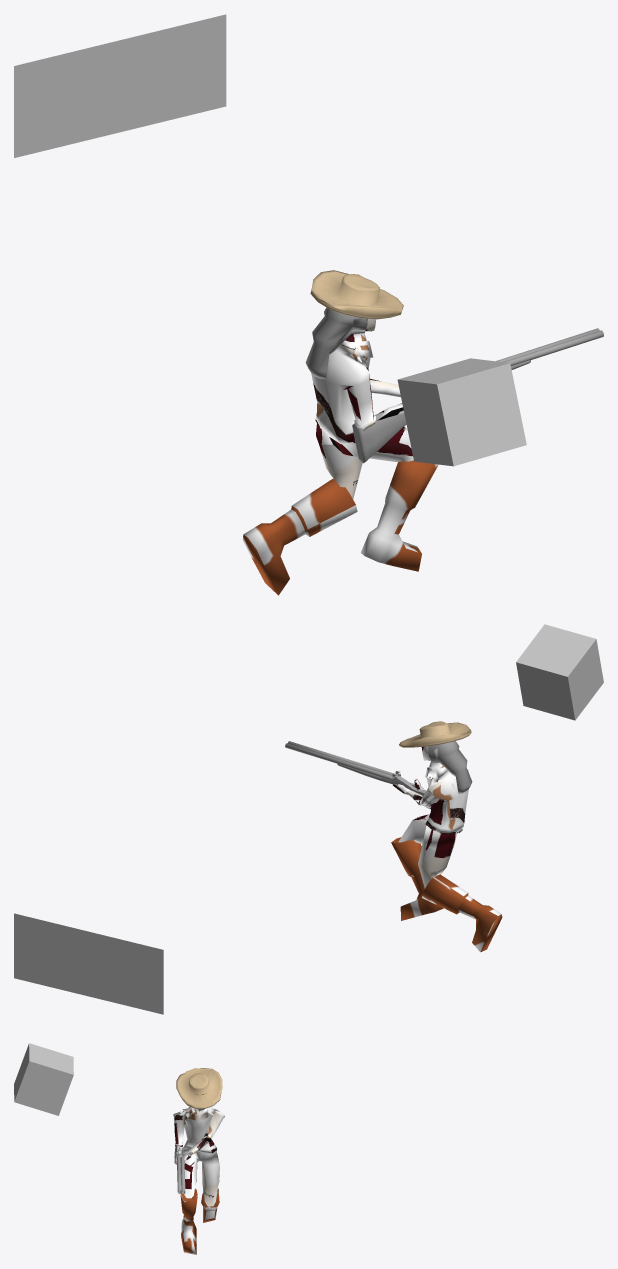
File: Mariana_the_brigandBETA3.obj
The picture shows the model from 3 angles, top to bottom: view 1: azimuth 30°, elevation 25°; view 2: azimuth 150°, elevation 25°; view 3: azimuth 270°, elevation 25°; orthographic projection. The views are drawn at different scales.
Visible parts, largest first — view 1: Floor_Plane, Default_Body_Cube, Cube_Cube.001, Hat_Cylinder, SHOTGUN_Cube.007, Hair_Cube.004; view 2: Floor_Plane, Default_Body_Cube, Cube_Cube.001, SHOTGUN_Cube.007, Hat_Cylinder, Hair_Cube.004; view 3: Default_Body_Cube, Cube_Cube.001, Hat_Cylinder, SHOTGUN_Cube.007.
Part boxes in pixels (left/top/right/bottom): Floor_Plane: left=14, top=14, right=226, bottom=157; Default_Body_Cube: left=242, top=318, right=438, bottom=595; Cube_Cube.001: left=397, top=358, right=526, bottom=466; Hat_Cylinder: left=310, top=270, right=403, bottom=319; SHOTGUN_Cube.007: left=352, top=328, right=603, bottom=463; Hair_Cube.004: left=305, top=305, right=371, bottom=379; Floor_Plane: left=14, top=913, right=163, bottom=1014; Default_Body_Cube: left=391, top=746, right=502, bottom=952; Cube_Cube.001: left=516, top=624, right=603, bottom=720; SHOTGUN_Cube.007: left=285, top=741, right=462, bottom=832; Hat_Cylinder: left=399, top=721, right=471, bottom=747; Hair_Cube.004: left=428, top=741, right=472, bottom=793; Default_Body_Cube: left=173, top=1107, right=224, bottom=1254; Cube_Cube.001: left=14, top=1043, right=73, bottom=1115; Hat_Cylinder: left=176, top=1068, right=222, bottom=1108; SHOTGUN_Cube.007: left=174, top=1145, right=185, bottom=1193.
Size of what is drawn, in the model's own units: 9.13 by 8.56 by 25.11.
